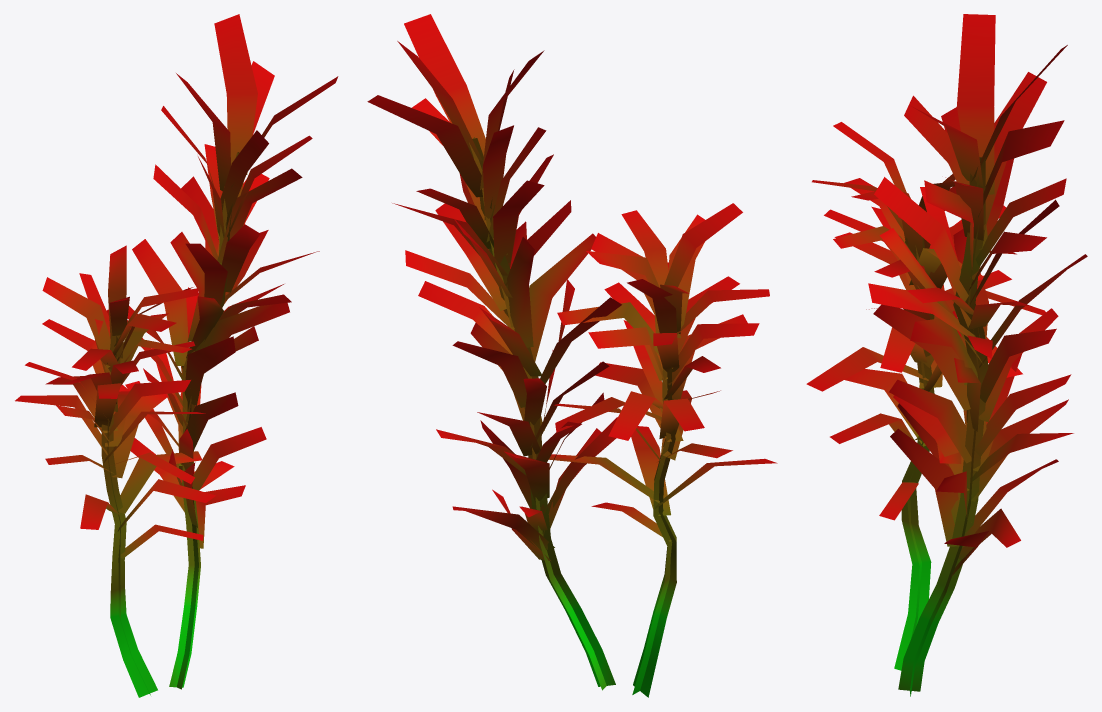
The model's file is Dragon Tree_LOD2_Var5_siumT.fbx.
3 renders of one model, left to right at view 1: azimuth 30°, elevation 25°; view 2: azimuth 150°, elevation 25°; view 3: azimuth 270°, elevation 25°, orthographic. The views are drawn at different scales.
Parts seen in each view (by area): view 1: _96b8_Var5_LOD2; view 2: _96b8_Var5_LOD2; view 3: _96b8_Var5_LOD2.
Part boxes in pixels (<box>): _96b8_Var5_LOD2: <box>15,14,338,697</box>; _96b8_Var5_LOD2: <box>367,14,777,697</box>; _96b8_Var5_LOD2: <box>806,14,1087,696</box>.
Size of the model in its own units: 41 by 78.18 by 27.79.
